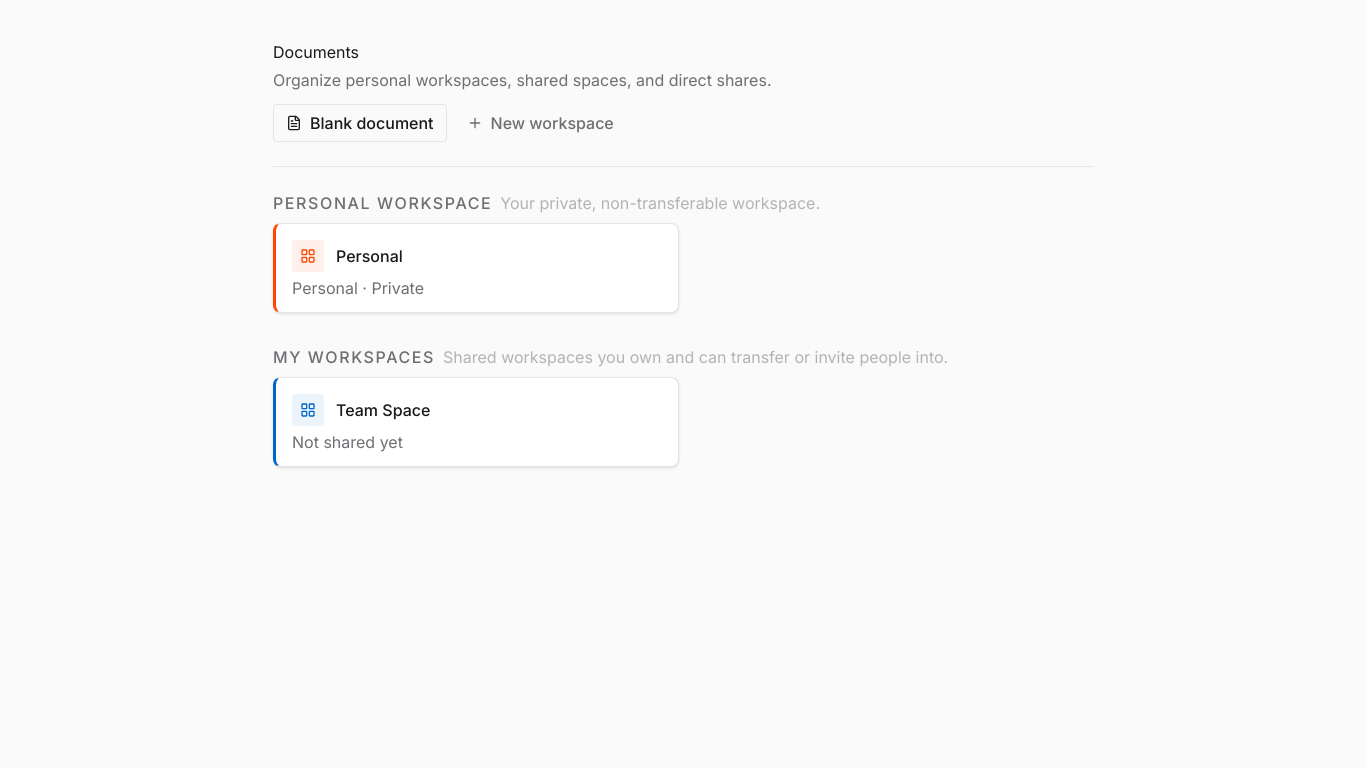
Scenario: DocumentList › confirms and deletes a workspace
Click the button "Team Space": [308, 410] box [276, 378, 678, 430]
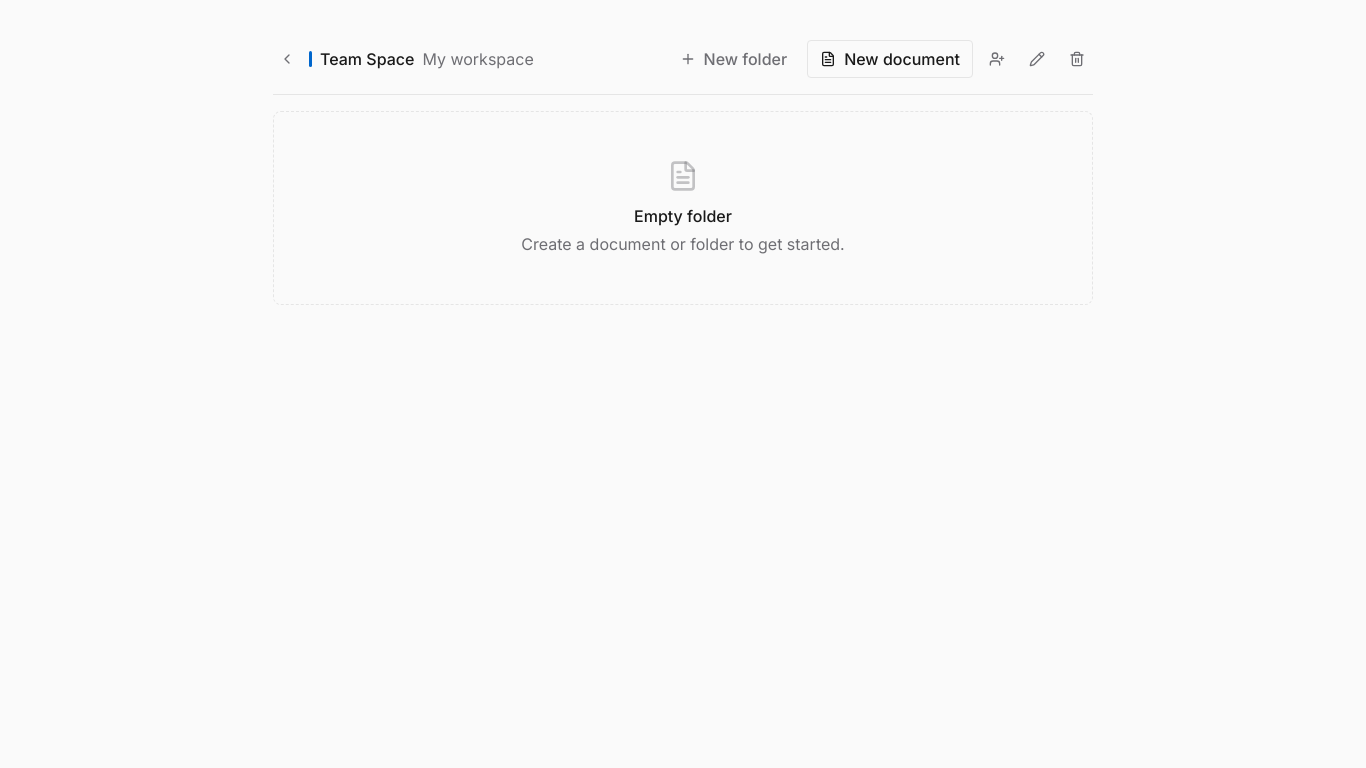
Click the button named "delete workspace team space": [1077, 59] box [1061, 43, 1093, 75]
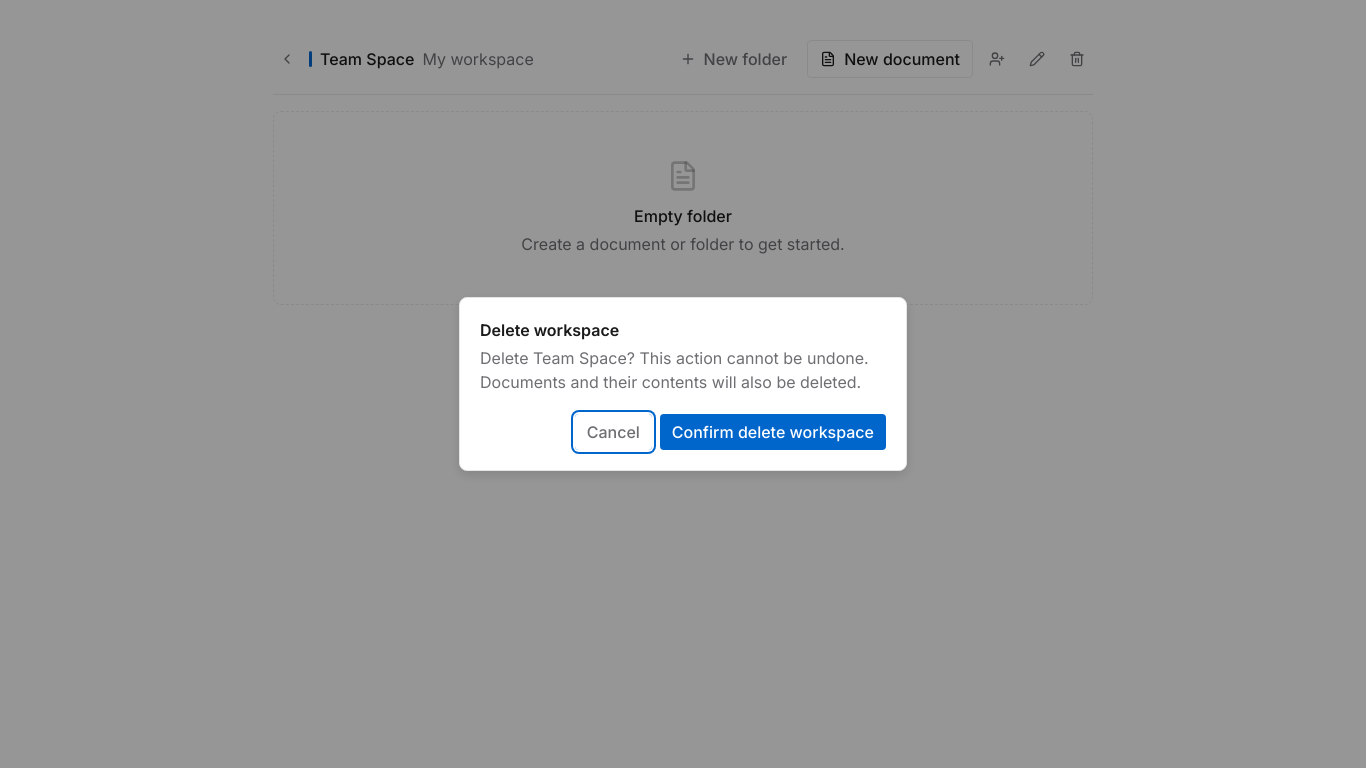
Now the text "documents and their contents will also be deleted" is shown, box [480, 348, 869, 392]
Click the button "Confirm delete workspace": [773, 432] box [660, 414, 886, 450]
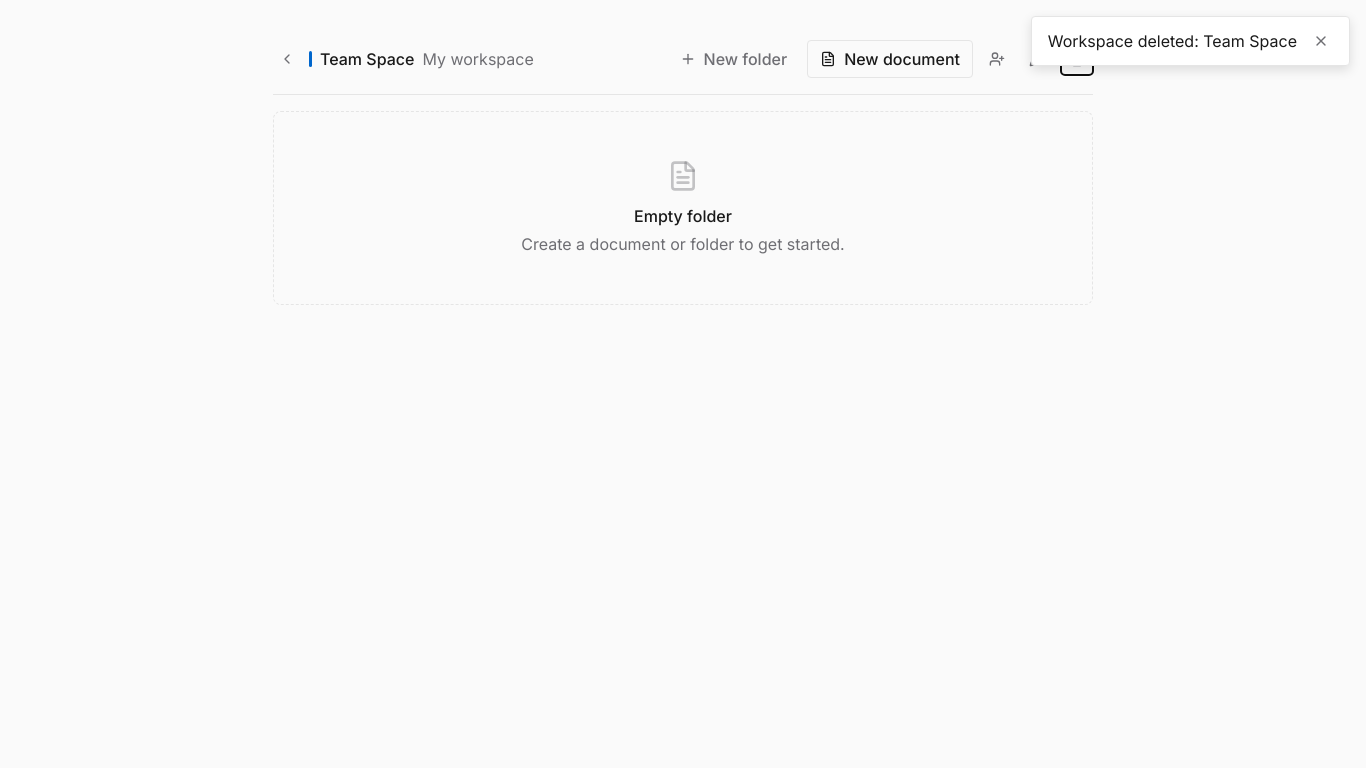
Now the heading "Delete workspace" is gone
